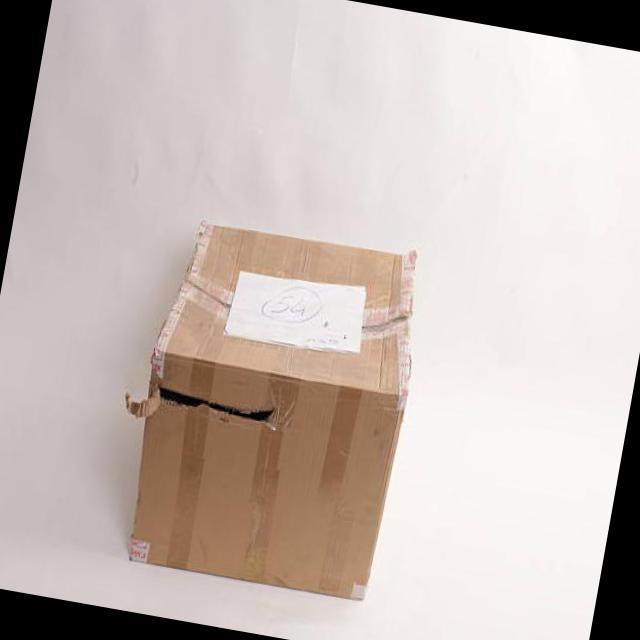box: (126, 221, 415, 603)
crushed: (182, 266, 414, 350)
opened: (127, 379, 284, 431)
